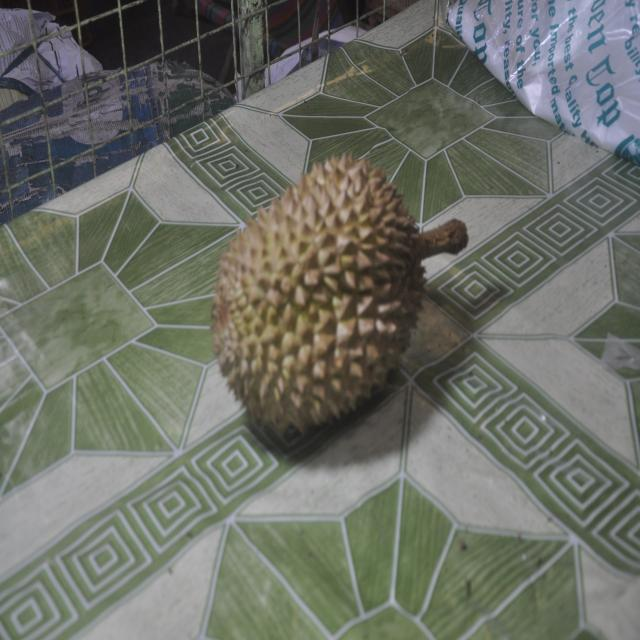mature: (212, 155, 468, 433)
